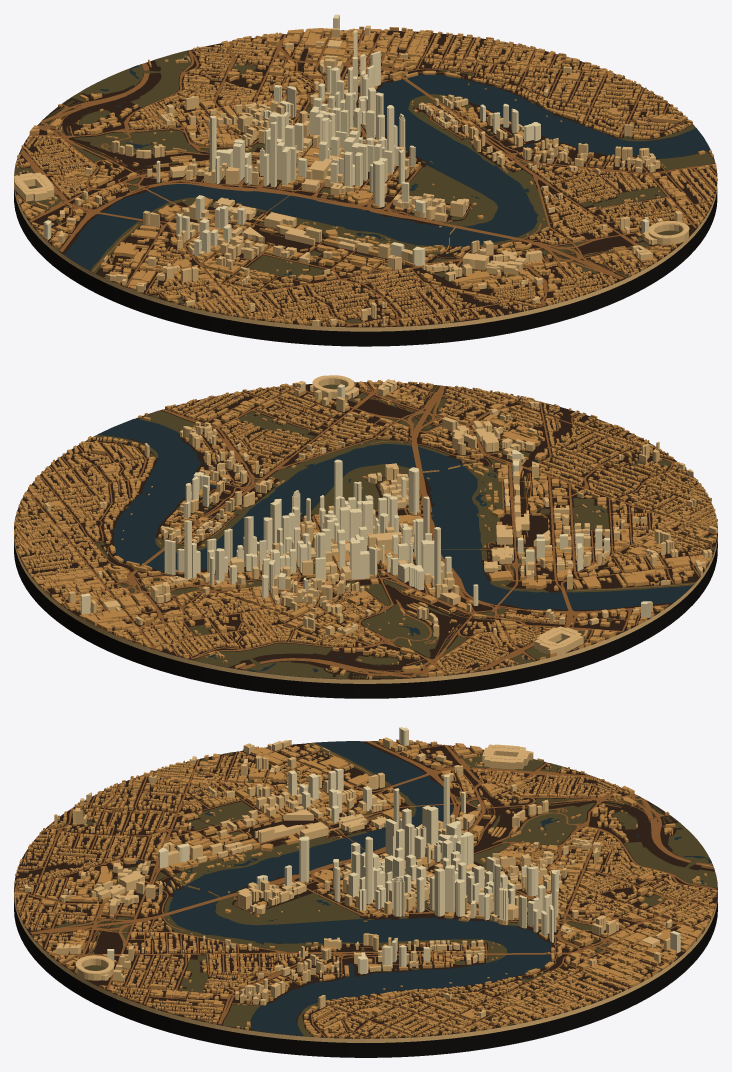
The model's file is sepia.glb.
The picture shows the model from 3 angles, top to bottom: view 1: azimuth 30°, elevation 25°; view 2: azimuth 150°, elevation 25°; view 3: azimuth 270°, elevation 25°; orthographic projection.
Visible parts, largest first — view 1: land, water, roads, park, slab, buildings 15/30312/18987 low, buildings 15/30313/18987 low, buildings 15/30314/18985 low, buildings 15/30311/18987 low, buildings 15/30312/18986 tall, buildings 15/30311/18986 low, buildings 15/30313/18984 low (+26 smaller); view 2: land, roads, water, park, slab, buildings 15/30312/18987 low, buildings 15/30313/18987 low, buildings 15/30314/18985 low, buildings 15/30311/18986 low, buildings 15/30311/18987 low, buildings 15/30312/18985 tall, buildings 15/30312/18985 low (+27 smaller); view 3: land, water, roads, park, slab, buildings 15/30312/18987 low, buildings 15/30314/18985 low, buildings 15/30313/18987 low, buildings 15/30311/18987 low, buildings 15/30313/18984 low, buildings 15/30313/18985 tall, buildings 15/30311/18986 low (+25 smaller).
Boxes of the visible parts, <box> form: land: <box>14,30,717,327</box>; water: <box>23,58,710,275</box>; roads: <box>15,30,716,326</box>; park: <box>14,50,715,323</box>; slab: <box>14,188,717,346</box>; buildings 15/30312/18987 low: <box>302,226,550,326</box>; buildings 15/30313/18987 low: <box>478,181,680,291</box>; buildings 15/30314/18985 low: <box>433,34,640,108</box>; buildings 15/30311/18987 low: <box>157,269,377,327</box>; buildings 15/30312/18986 tall: <box>238,107,425,224</box>; buildings 15/30311/18986 low: <box>38,197,292,294</box>; buildings 15/30313/18984 low: <box>217,26,428,82</box>; land: <box>14,382,717,679</box>; roads: <box>15,382,716,678</box>; water: <box>24,419,692,672</box>; park: <box>15,382,715,679</box>; slab: <box>14,534,717,698</box>; buildings 15/30312/18987 low: <box>423,405,661,507</box>; buildings 15/30313/18987 low: <box>246,380,504,451</box>; buildings 15/30314/18985 low: <box>14,475,132,573</box>; buildings 15/30311/18986 low: <box>490,514,712,623</box>; buildings 15/30311/18987 low: <box>592,451,717,548</box>; buildings 15/30312/18985 tall: <box>262,527,451,599</box>; buildings 15/30312/18985 low: <box>223,547,452,653</box>; land: <box>14,741,717,1038</box>; water: <box>79,741,711,1035</box>; roads: <box>14,741,716,1037</box>; park: <box>32,741,717,1036</box>; slab: <box>14,897,717,1057</box>; buildings 15/30312/18987 low: <box>38,817,228,901</box>; buildings 15/30314/18985 low: <box>418,980,608,1037</box>; buildings 15/30313/18987 low: <box>38,898,228,982</box>; buildings 15/30311/18987 low: <box>57,753,228,820</box>; buildings 15/30313/18984 low: <box>609,899,715,981</box>; buildings 15/30313/18985 tall: <box>419,862,558,962</box>; buildings 15/30311/18986 low: <box>228,739,418,820</box>.
Bounding box in the file's own units: 0.6007 × 0.0787 × 0.6.
